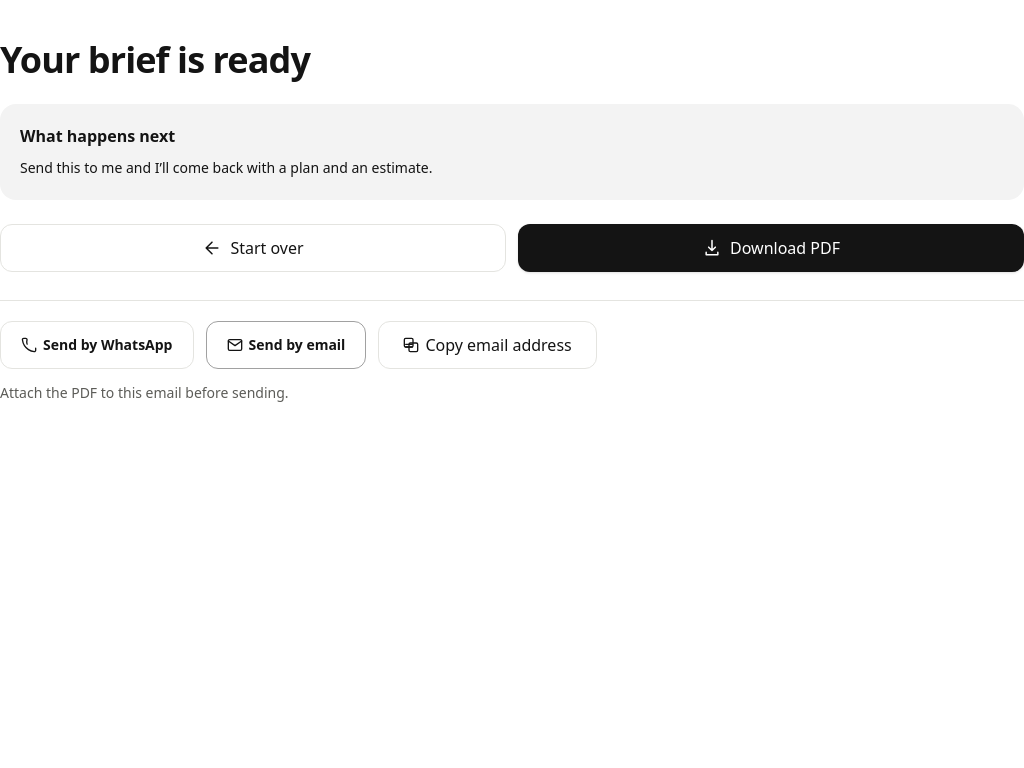
it: DoneScreen start over › wipes session data and returns to step one when the user confirms
Later steps or results of the test are not shown.
expect the button "Download PDF" is shown: met, box [518,224,1023,272]
Click the button "Start over" at (253, 248), box [0,224,506,272]
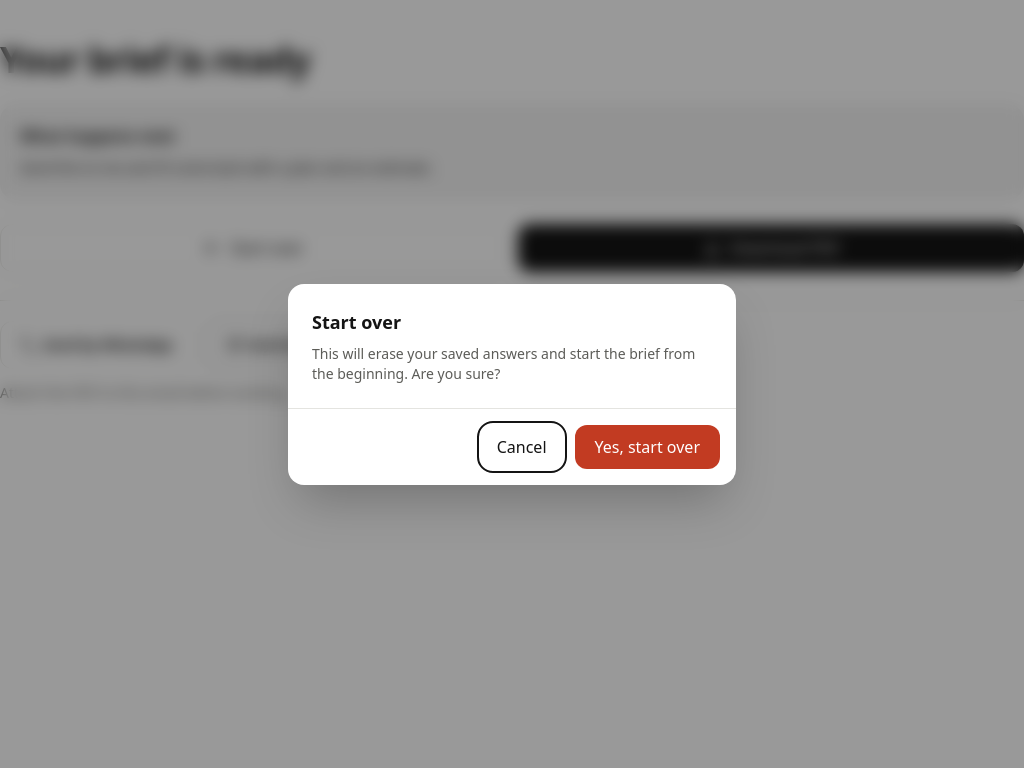
expect the heading "Start over" is shown: met, box [312,310,401,334]
expect the button "Yes, start over" is shown: met, box [574,424,720,468]
expect the button "Cancel" is shown: met, box [481,424,562,468]
